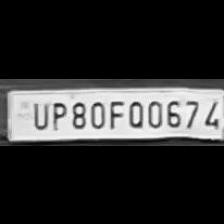0: (87, 96, 105, 128), (145, 97, 163, 127)
4: (200, 96, 220, 128)
6: (163, 96, 181, 128)
7: (181, 96, 199, 128)
8: (68, 97, 86, 128)
F: (106, 96, 124, 128)
P: (47, 97, 67, 128)
Q: (125, 97, 144, 127)
U: (28, 97, 48, 128)
